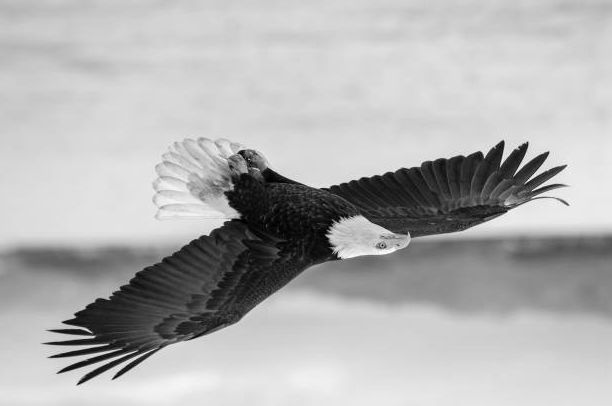Bird: (41, 132, 572, 386)
